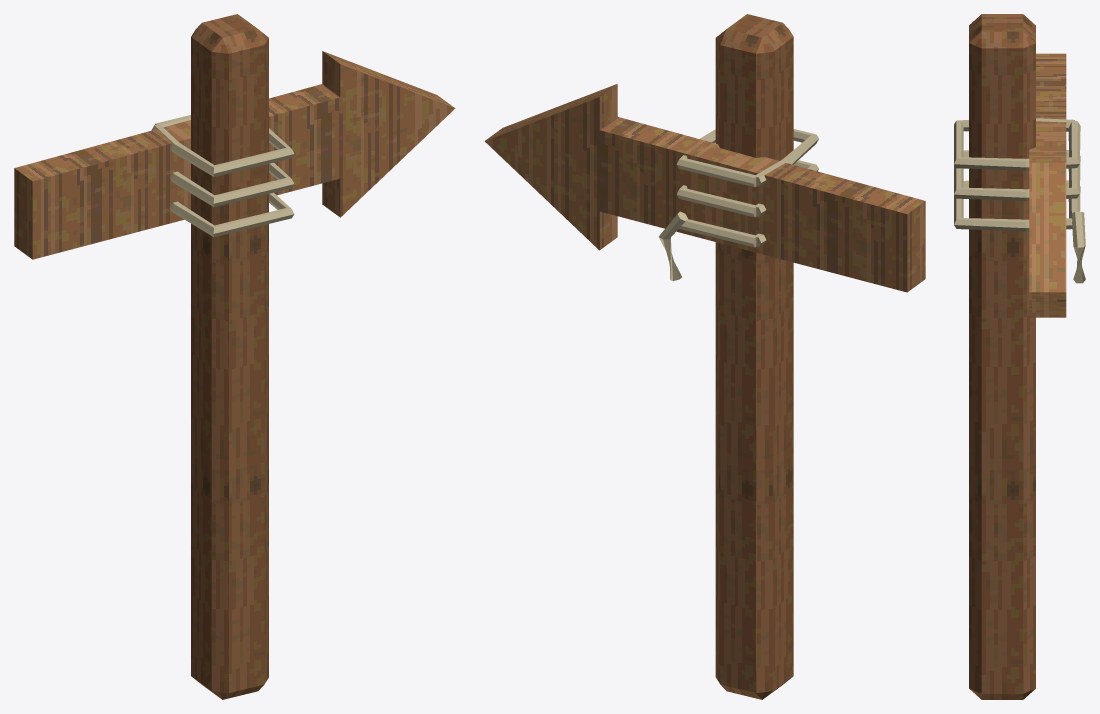
Rendered from holm_arrival_waypost_oldschool_v1.glb.
The picture shows the model from 3 angles, left to right: view 1: azimuth 30°, elevation 25°; view 2: azimuth 150°, elevation 25°; view 3: azimuth 270°, elevation 25°; orthographic projection.
Visible parts, largest first — view 1: LandingWaypost_Landing_aged_oak, LandingWaypost_Landing_cut_oak, LandingWaypost_Landing_flax_rope; view 2: LandingWaypost_Landing_aged_oak, LandingWaypost_Landing_cut_oak, LandingWaypost_Landing_flax_rope; view 3: LandingWaypost_Landing_aged_oak, LandingWaypost_Landing_cut_oak, LandingWaypost_Landing_flax_rope.
Boxes of the visible parts, box(x1,y1,x2,y2) form: LandingWaypost_Landing_aged_oak: box(191, 14, 268, 699); LandingWaypost_Landing_cut_oak: box(14, 51, 455, 259); LandingWaypost_Landing_flax_rope: box(151, 115, 294, 237); LandingWaypost_Landing_aged_oak: box(715, 14, 793, 699); LandingWaypost_Landing_cut_oak: box(484, 84, 925, 292); LandingWaypost_Landing_flax_rope: box(659, 129, 818, 280); LandingWaypost_Landing_aged_oak: box(969, 14, 1035, 699); LandingWaypost_Landing_cut_oak: box(1029, 53, 1066, 317); LandingWaypost_Landing_flax_rope: box(954, 118, 1085, 283).
Bounding box in the file's own units: 1.47 × 2.2 × 0.3936.
Materials: 3 (2 with a texture image).
